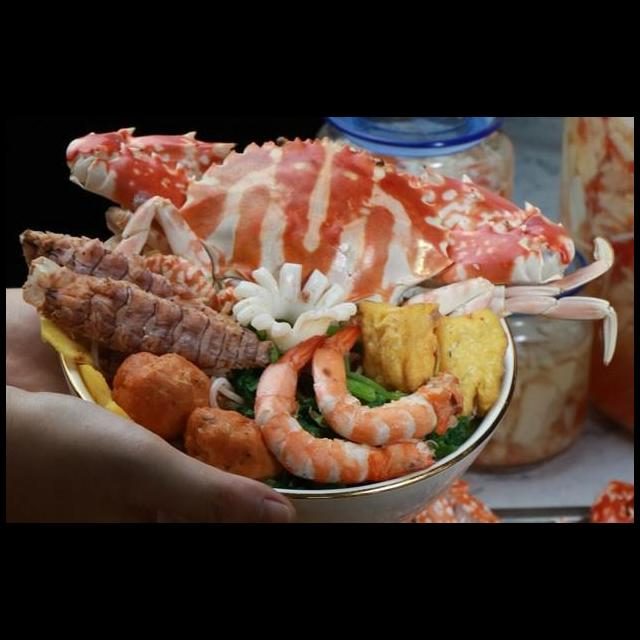dau hu: (343, 296, 448, 398), (429, 305, 513, 424)
muc: (229, 260, 361, 360)
tom: (250, 329, 443, 486), (305, 304, 467, 449)
tom tit: (18, 253, 283, 377), (16, 225, 244, 333)
